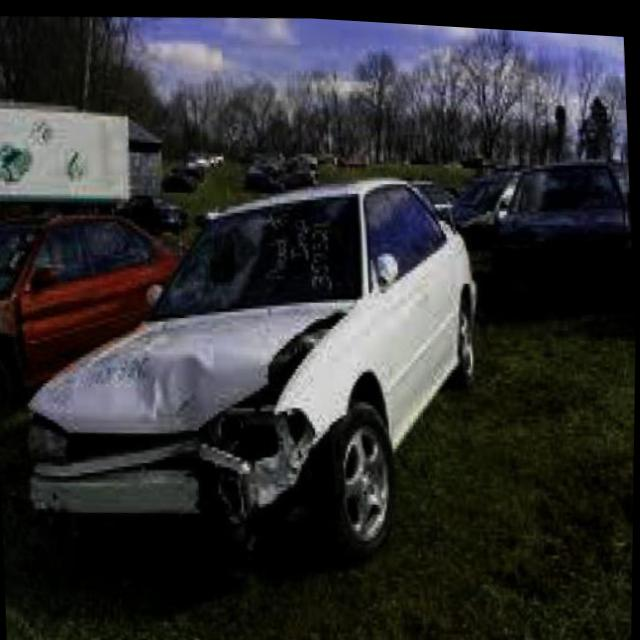Car-Damage: (24, 285, 365, 563), (143, 183, 369, 326)
